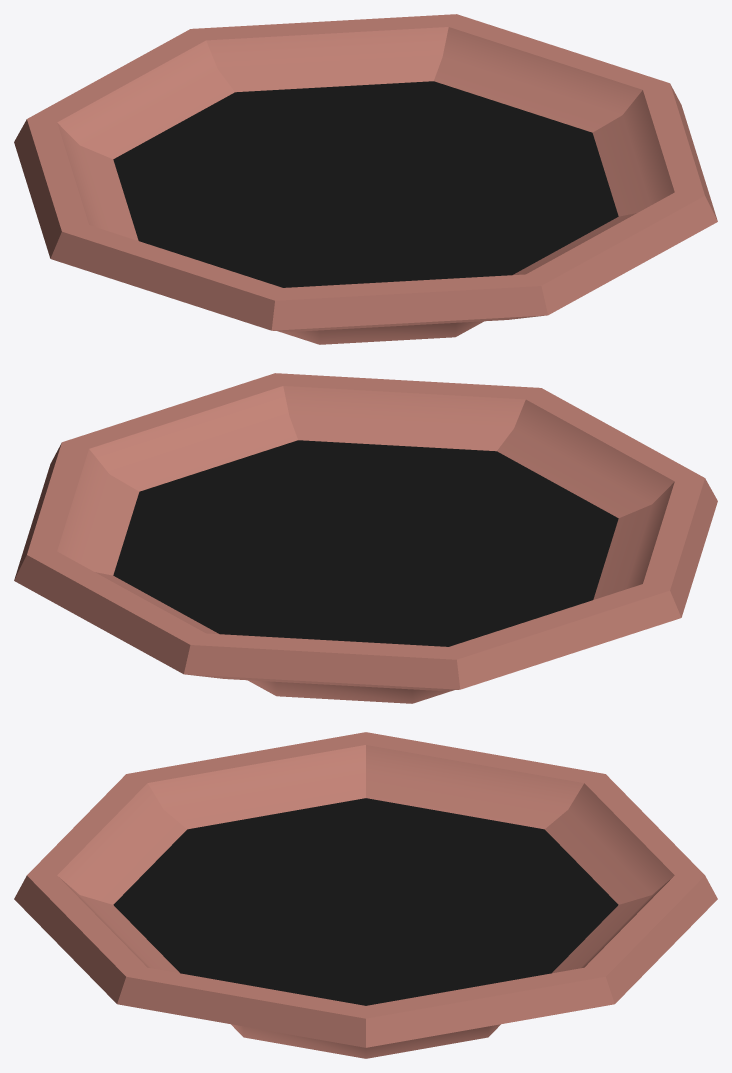
Rendered from pigment_black.glb.
The picture shows the model from 3 angles, top to bottom: view 1: azimuth 30°, elevation 25°; view 2: azimuth 150°, elevation 25°; view 3: azimuth 270°, elevation 25°; orthographic projection. The views are drawn at different scales.
Parts seen in each view (by area): view 1: polySurface1, pCylinder4; view 2: polySurface1, pCylinder4; view 3: polySurface1, pCylinder4.
Part boxes in pixels (x1,y1,x2,y2): polySurface1: [14, 14, 717, 344]; pCylinder4: [113, 81, 618, 287]; polySurface1: [14, 373, 717, 703]; pCylinder4: [113, 440, 618, 646]; polySurface1: [14, 732, 717, 1058]; pCylinder4: [113, 798, 618, 1005].
Bounding box in the file's own units: 0.0168 × 0.0029 × 0.0168.
Materials: 1 (1 with a texture image).
